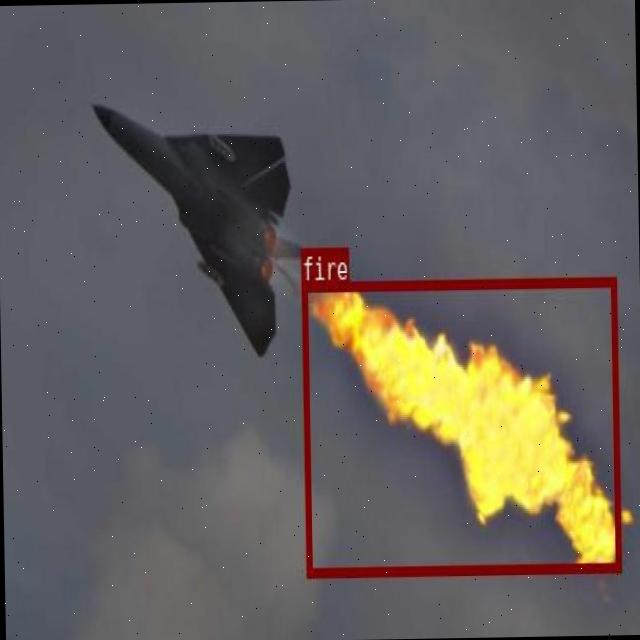fire: (302, 276, 620, 575)
